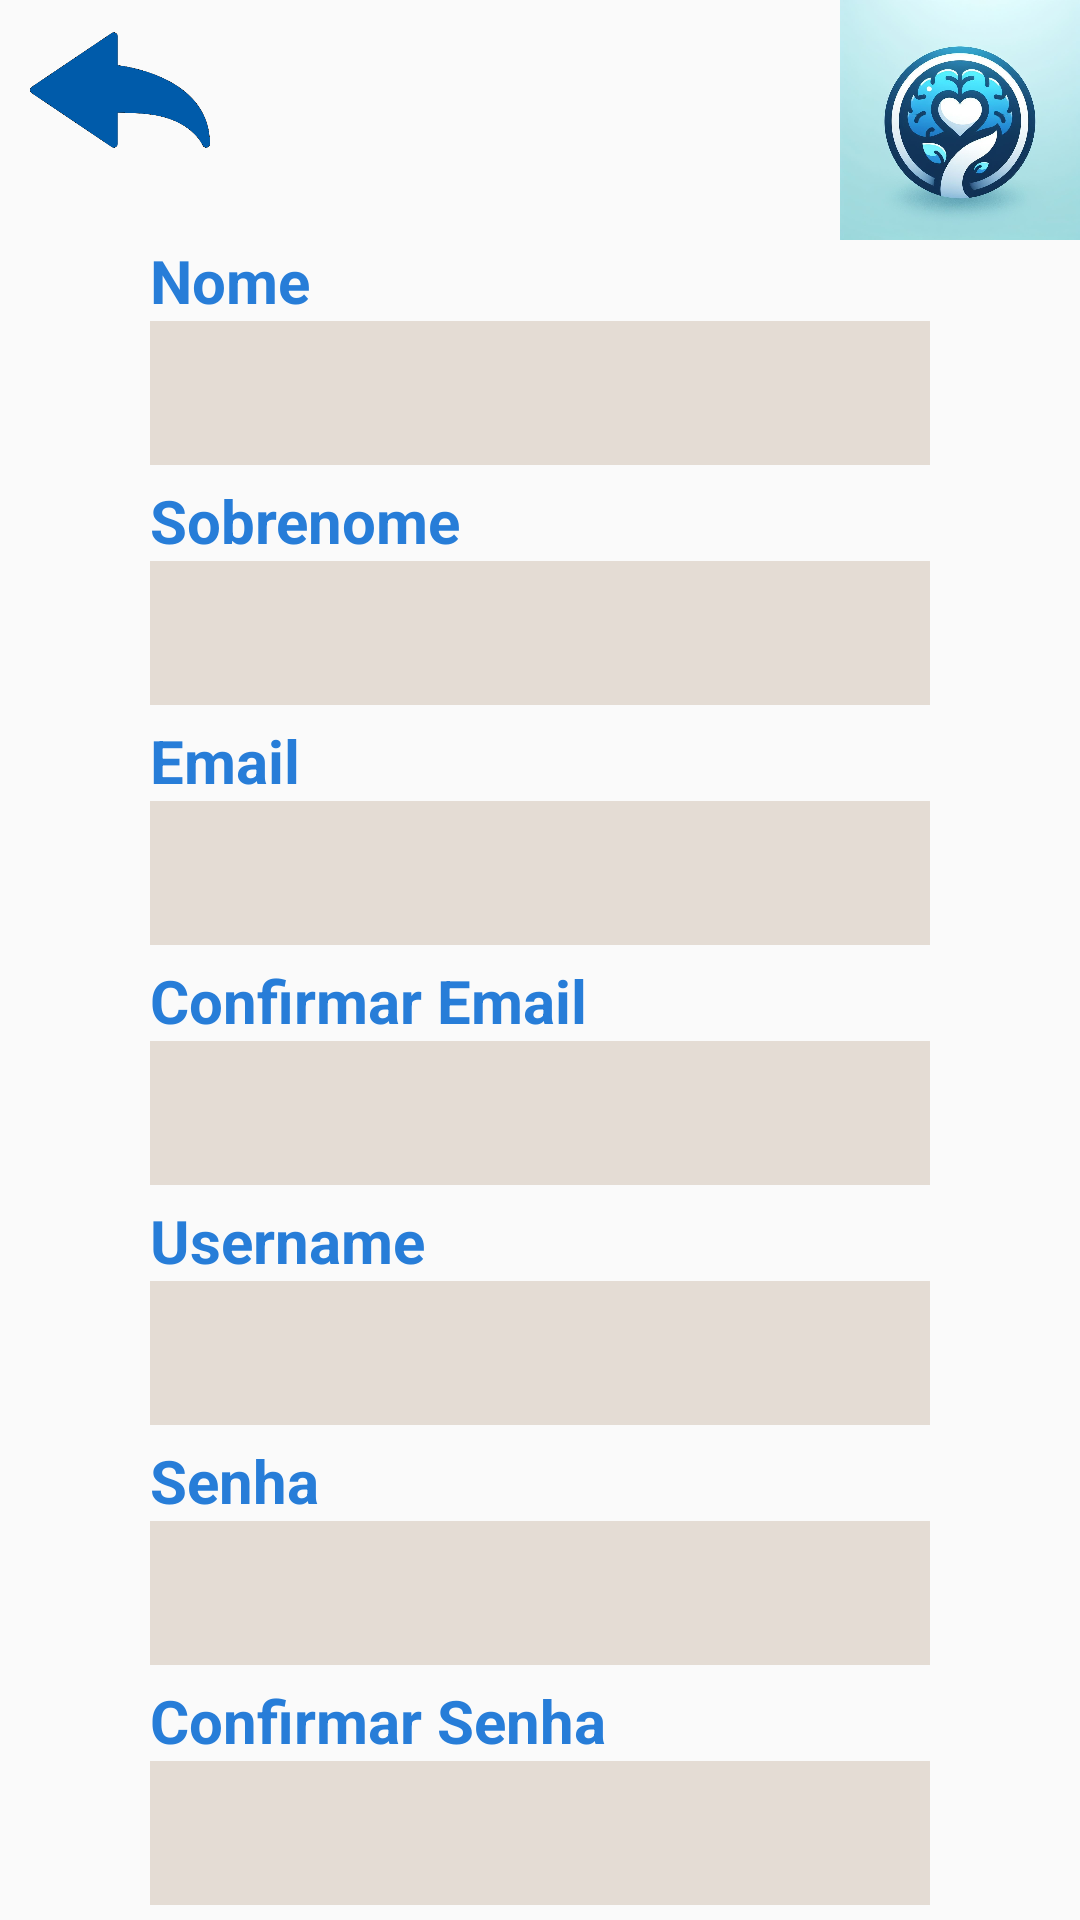

Screen size 1080px x 1920px. Icon name, then its center in pixels as [x,y]:
returnarrow: [120,90]
